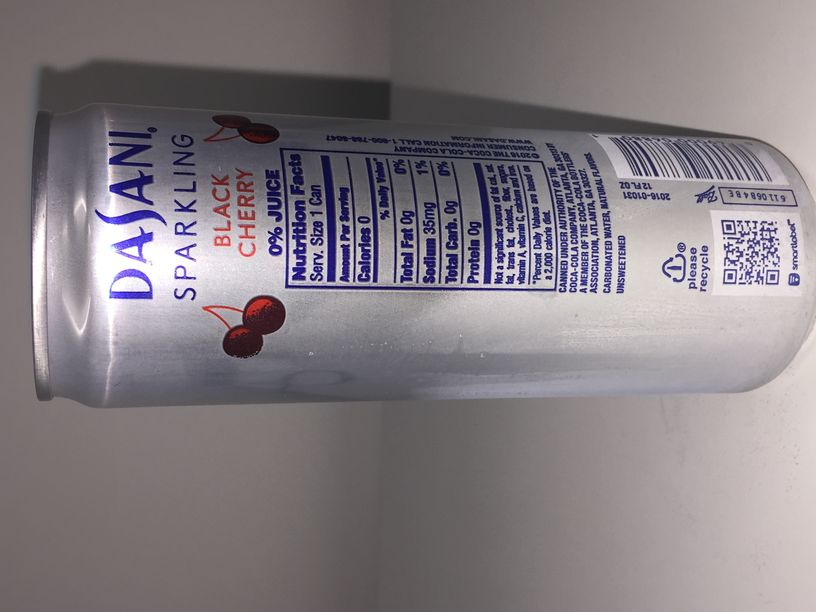blackcherry: (27, 102, 816, 409)
